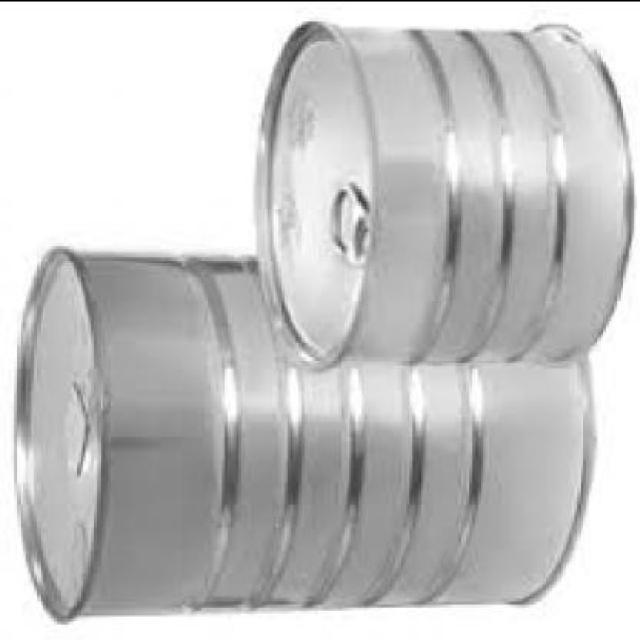METAL: (11, 248, 589, 626), (253, 22, 632, 373)
